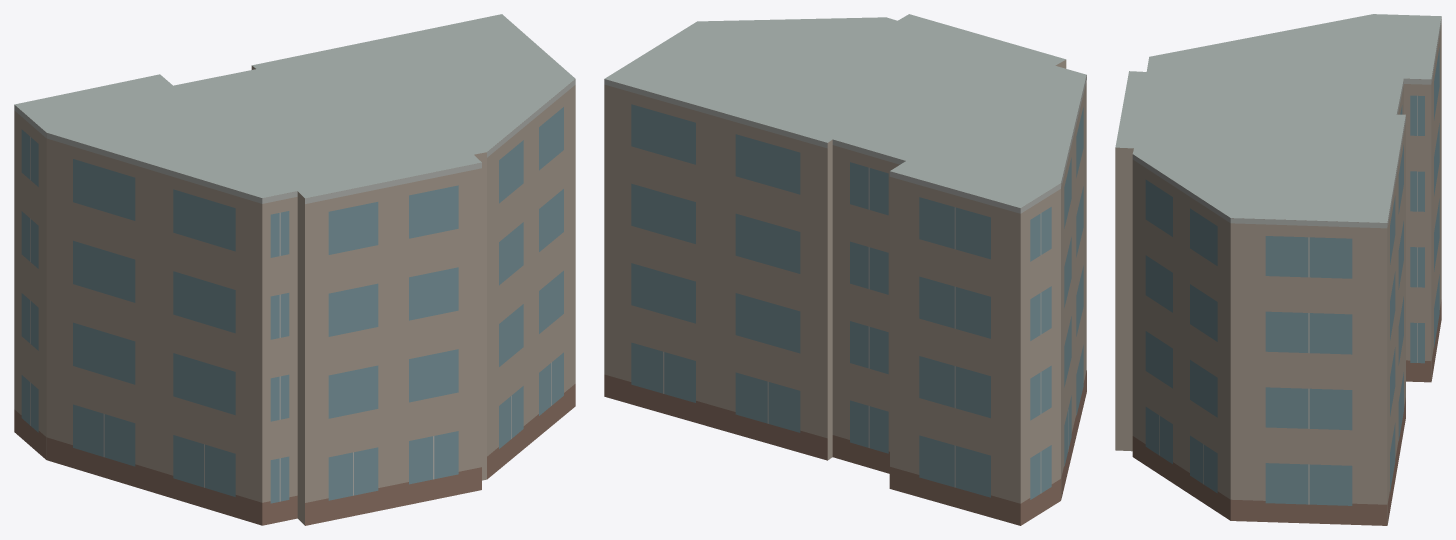
File: survey-upis-33019596.glb
3 views of the same model, side by side, from view 1: azimuth 30°, elevation 25°; view 2: azimuth 150°, elevation 25°; view 3: azimuth 270°, elevation 25° (orthographic). The views are drawn at different scales.
Parts seen in each view (by area): view 1: survey-upis-33019596.tmp; view 2: survey-upis-33019596.tmp; view 3: survey-upis-33019596.tmp.
Part boxes in pixels (<box>): survey-upis-33019596.tmp: <box>14,14,575,525</box>; survey-upis-33019596.tmp: <box>604,14,1086,525</box>; survey-upis-33019596.tmp: <box>1115,14,1441,525</box>.
Bounding box in the file's own units: 20.54 × 13.87 × 13.55.
